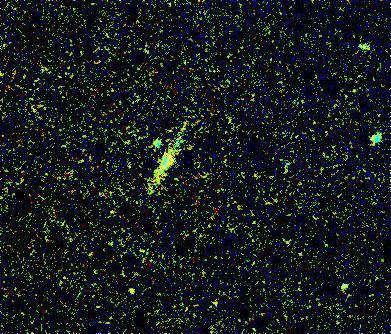star: (111, 282, 141, 312)
